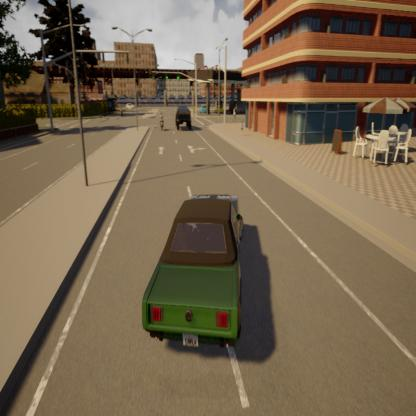Cars: (139, 182, 250, 363), (173, 104, 194, 134)
Pedestrian: (231, 106, 238, 126)
